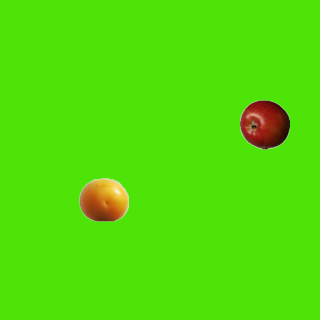Apple Braeburn: (239, 99, 289, 149)
Cherry Wax Yellow: (78, 174, 128, 224)
